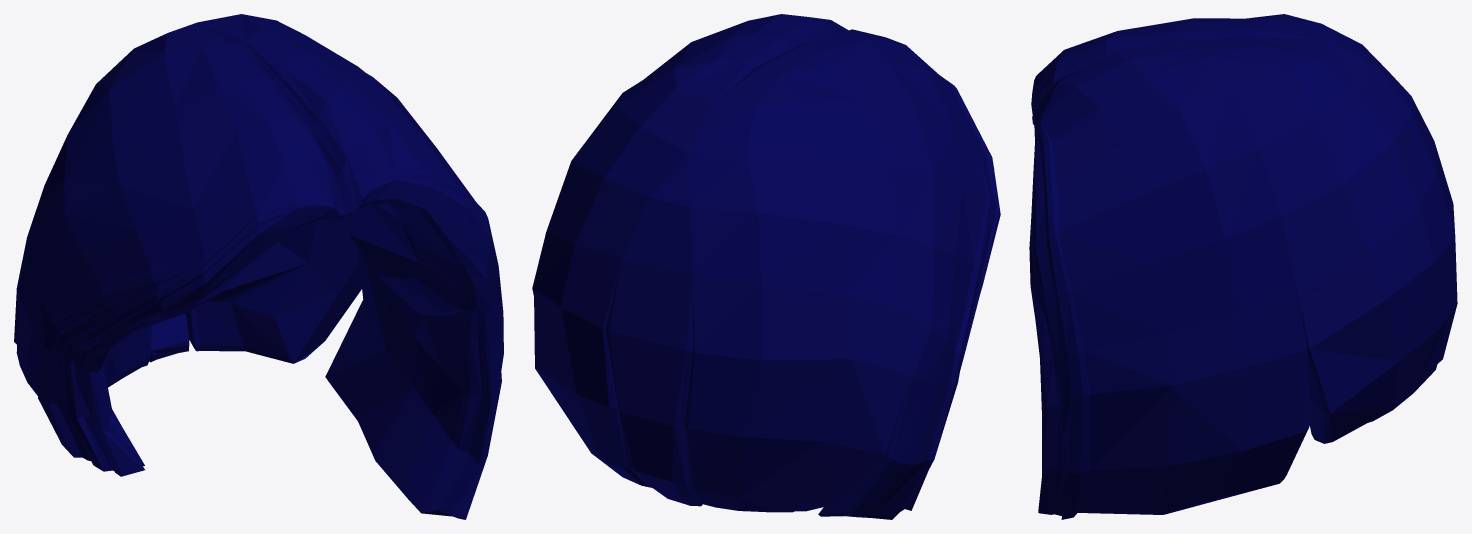
The model's file is Wig.fbx.
3 renders of one model, left to right at view 1: azimuth 30°, elevation 25°; view 2: azimuth 150°, elevation 25°; view 3: azimuth 270°, elevation 25°, orthographic. The views are drawn at different scales.
Parts seen in each view (by area): view 1: Wig; view 2: Wig; view 3: Wig.
Part boxes in pixels (x1=…): Wig: x1=14, y1=14, x2=503, y2=519; Wig: x1=532, y1=14, x2=1000, y2=519; Wig: x1=1029, y1=14, x2=1457, y2=519.
Size of the model in its own units: 7.91 by 8.5 by 7.7.
